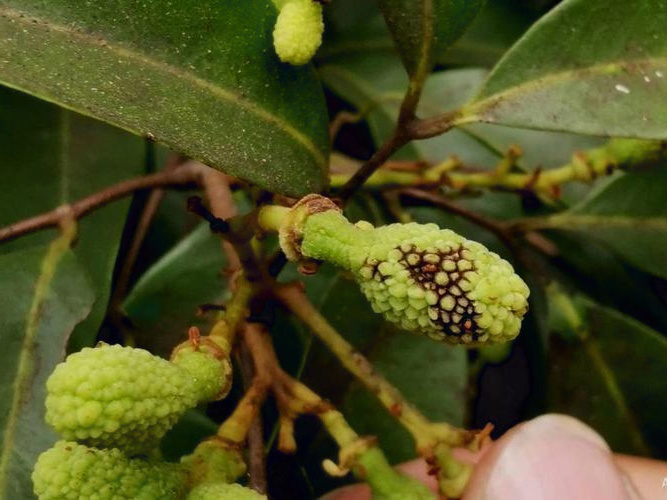Anthracnose: (404, 234, 490, 331)
